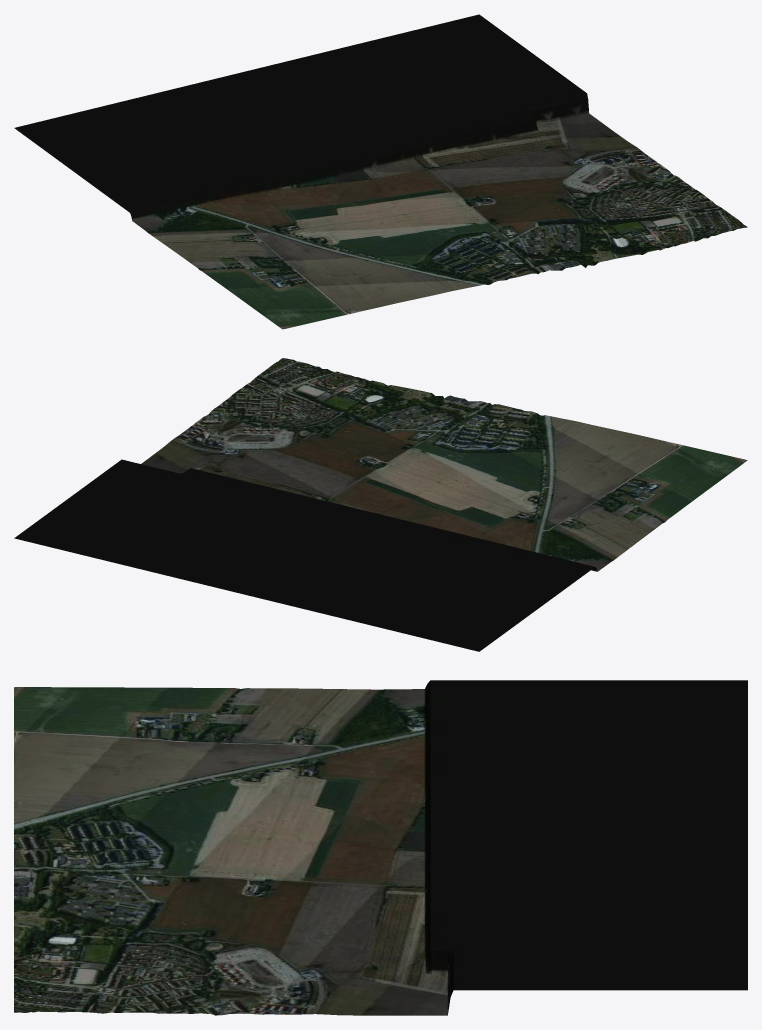
File: map_10_255_433.dae
3 views of the same model, one above another, from view 1: azimuth 30°, elevation 25°; view 2: azimuth 150°, elevation 25°; view 3: azimuth 270°, elevation 25° (orthographic). The views are drawn at different scales.
Visible parts, largest first — view 1: Ter0; view 2: Ter0; view 3: Ter0.
Boxes of the visible parts, left/top/right/bottom form: Ter0: left=14, top=14, right=747, bottom=329; Ter0: left=14, top=358, right=747, bottom=651; Ter0: left=14, top=680, right=747, bottom=1015.
Size of the model in its own units: 2044 by 2044 by 84.67.
Materials: 3 (3 with a texture image).
